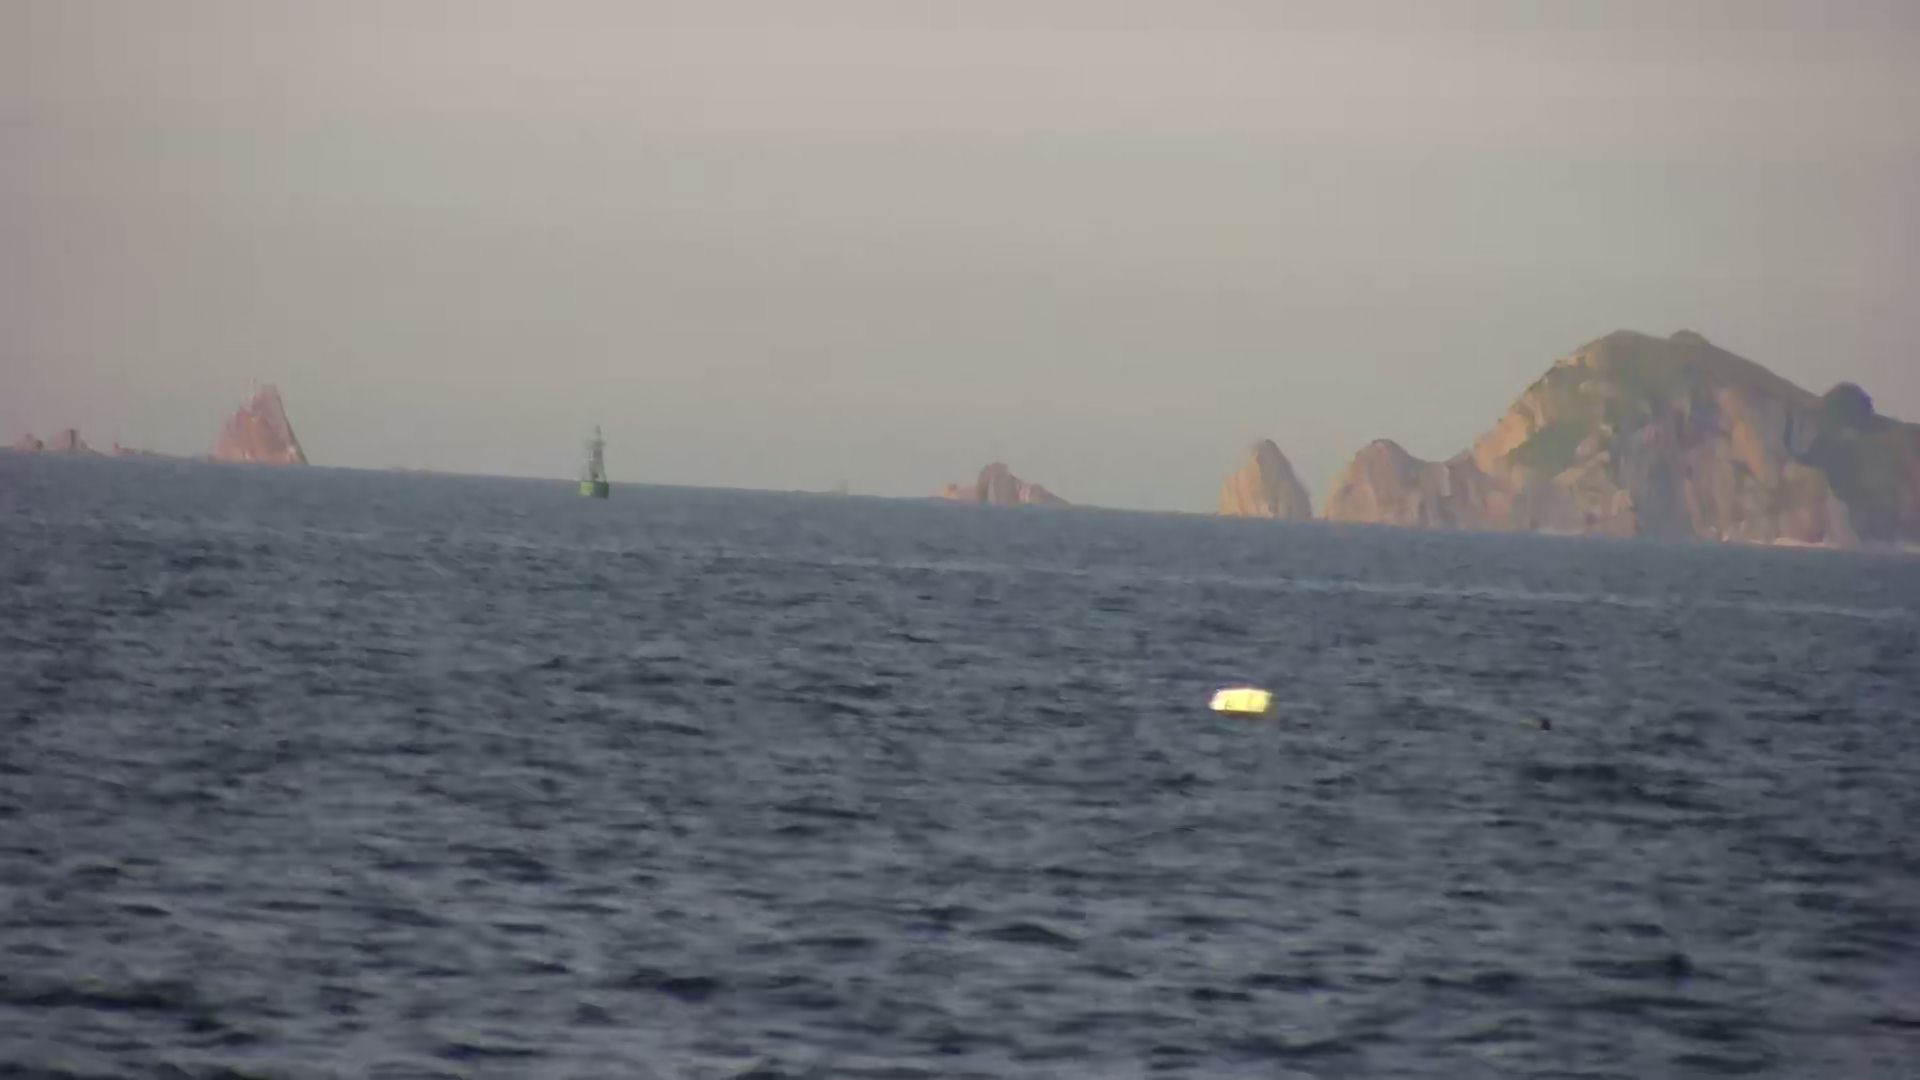buoy: (578, 415, 618, 504)
rubbish: (1203, 682, 1280, 728)
